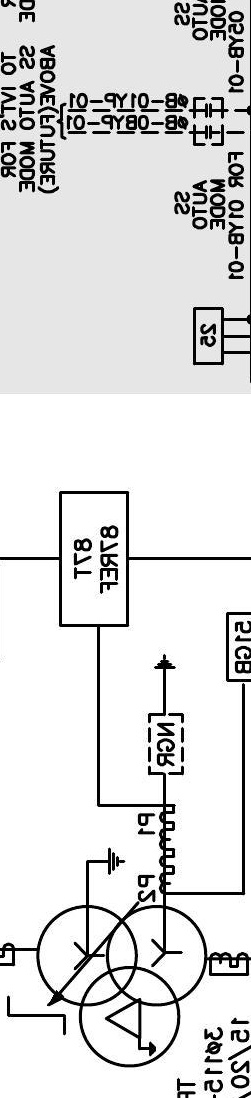11522_tx_ynyn0d1: (35, 904, 209, 1069)
NGR_future: (147, 654, 185, 776)
